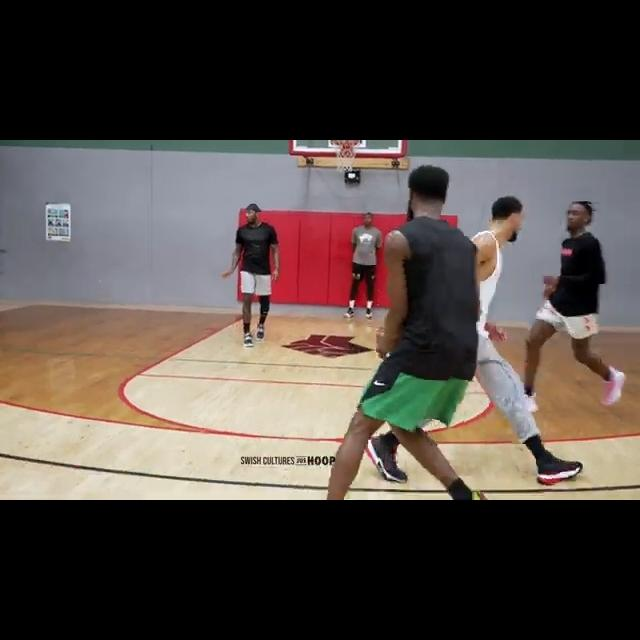hoop: (330, 140, 363, 172)
person: (367, 193, 588, 481), (322, 167, 485, 500), (517, 199, 629, 413), (229, 203, 284, 349), (341, 209, 382, 322)
